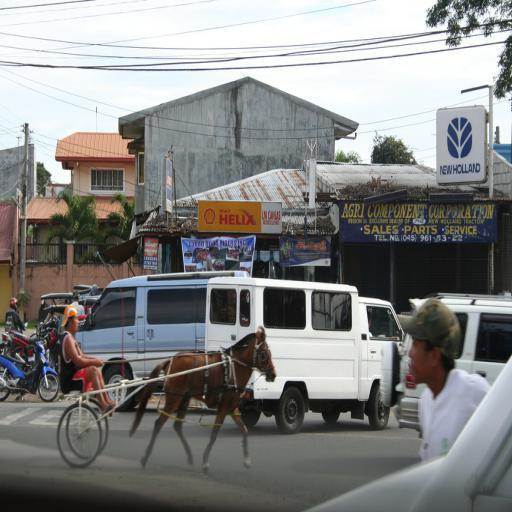horse: (128, 325, 278, 476)
